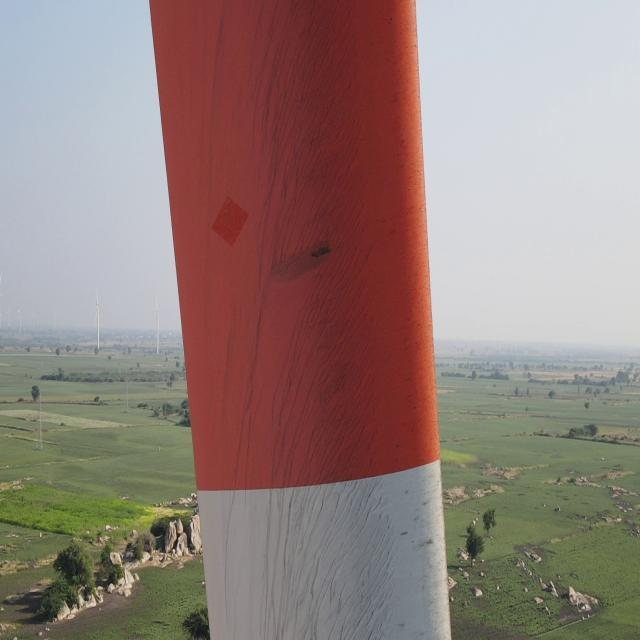Dirt: (218, 0, 440, 640)
Pin Hole: (310, 242, 331, 258)
